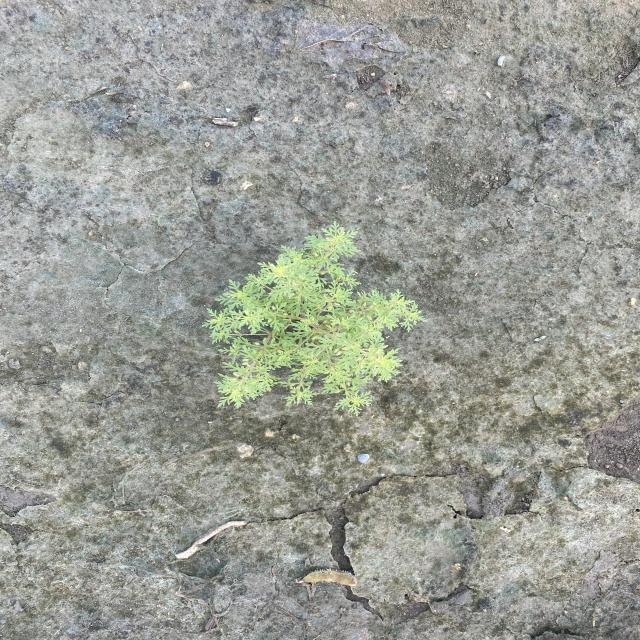Ragweed: (200, 220, 429, 418)
